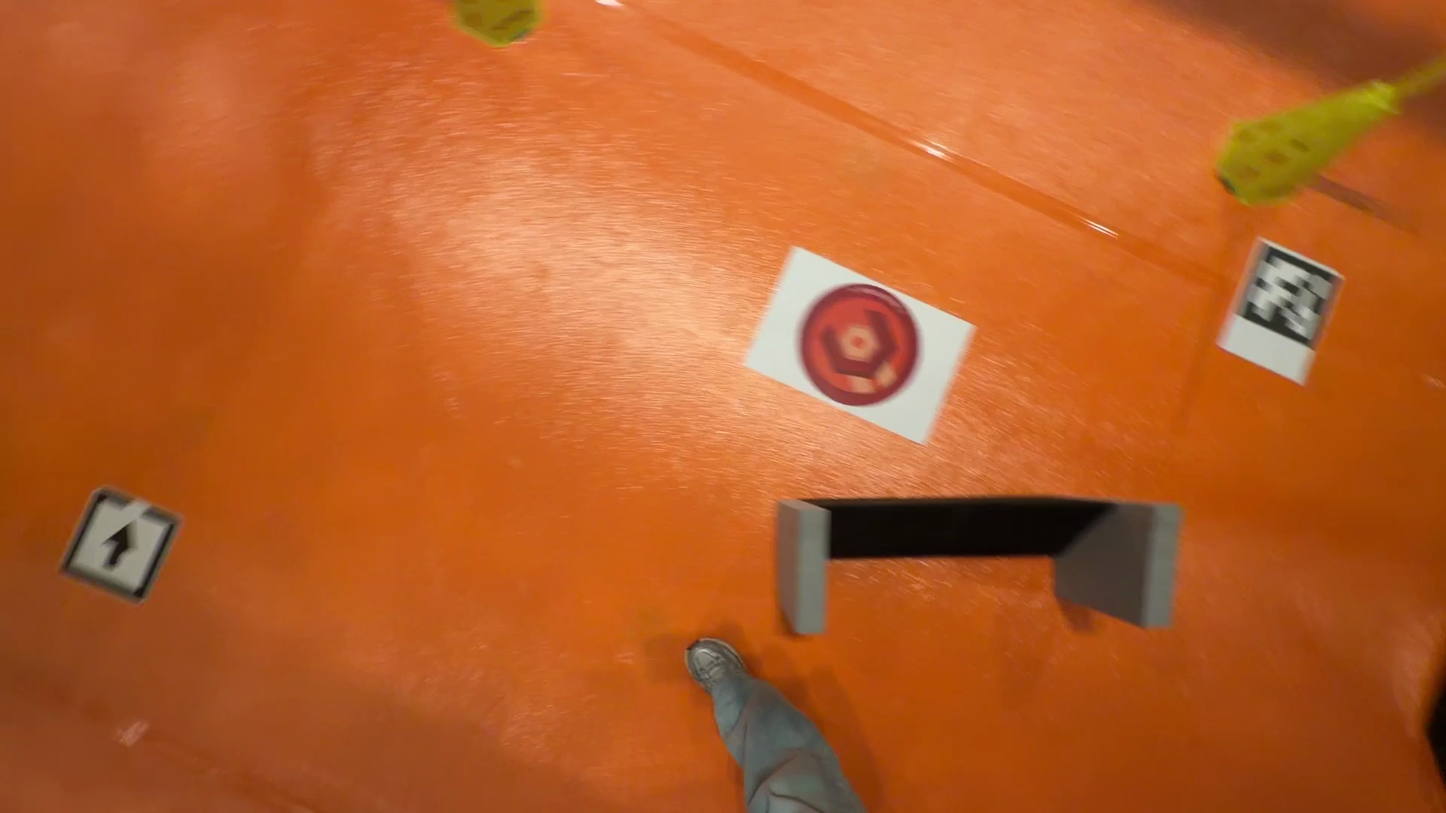landing_pad: (795, 284, 924, 406)
